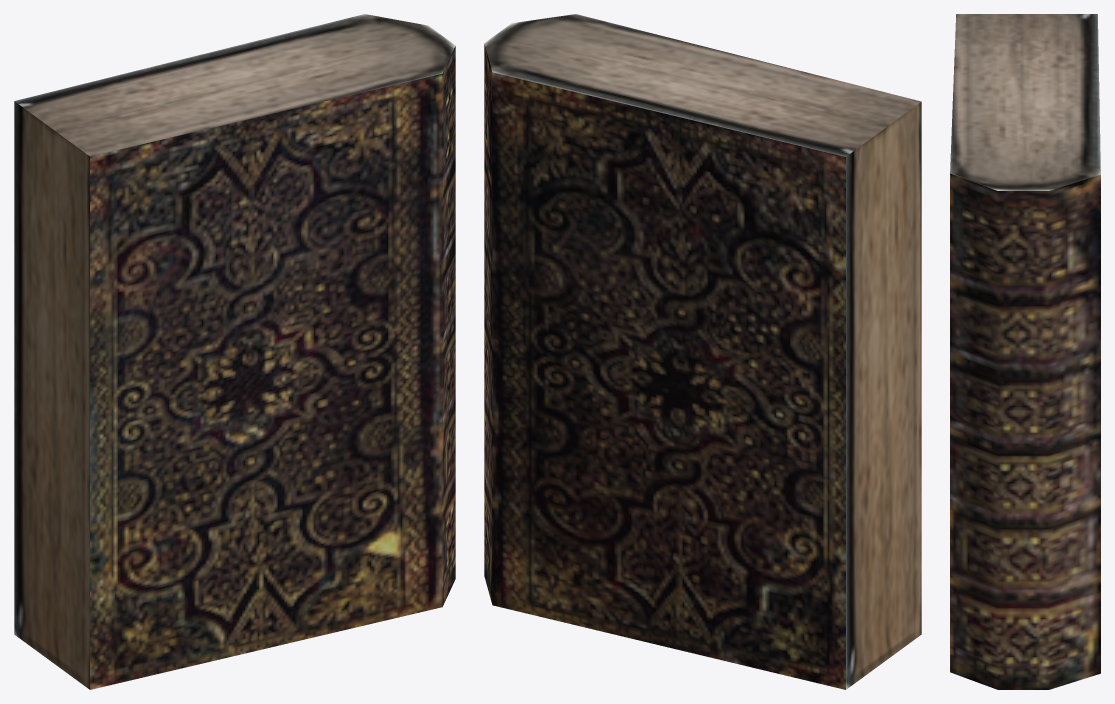
File: Prop_Sm_BookSingle_1_A.fbx
3 views of the same model, side by side, from view 1: azimuth 30°, elevation 25°; view 2: azimuth 150°, elevation 25°; view 3: azimuth 270°, elevation 25° (orthographic). The views are drawn at different scales.
Visible parts, largest first — view 1: Tomb_2_low_1:polySurface28; view 2: Tomb_2_low_1:polySurface28; view 3: Tomb_2_low_1:polySurface28.
Part boxes in pixels (x1=…): Tomb_2_low_1:polySurface28: x1=14, y1=14, x2=455, y2=689; Tomb_2_low_1:polySurface28: x1=484, y1=14, x2=921, y2=689; Tomb_2_low_1:polySurface28: x1=950, y1=14, x2=1100, y2=689.
Size of the model in its own units: 0.2388 by 0.3138 by 0.086.
